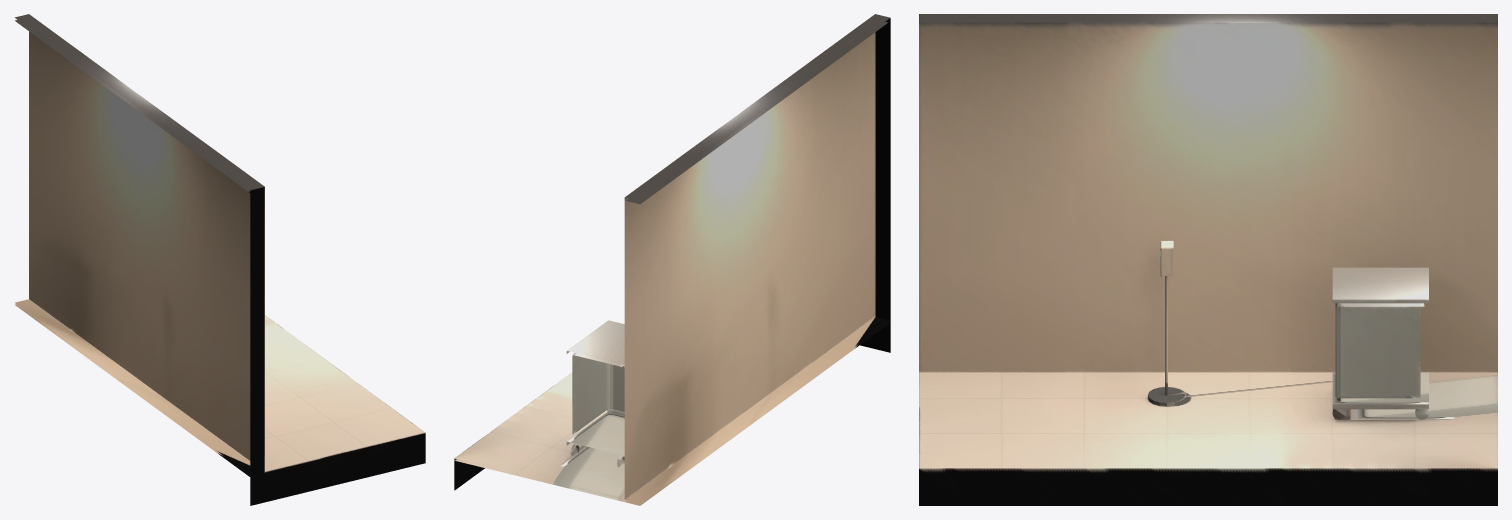
File: side-left.glb
3 views of the same model, side by side, from view 1: azimuth 30°, elevation 25°; view 2: azimuth 150°, elevation 25°; view 3: azimuth 270°, elevation 25° (orthographic). The views are drawn at different scales.
Parts seen in each view (by area): view 1: sideLeft; view 2: sideLeft; view 3: sideLeft.
Part boxes in pixels (<box>): sideLeft: <box>14,14,425,505</box>; sideLeft: <box>454,14,890,505</box>; sideLeft: <box>919,14,1497,505</box>.
Bounding box in the file's own units: 1.8 × 3.1 × 4.2.
Materials: 1 (1 with a texture image).
